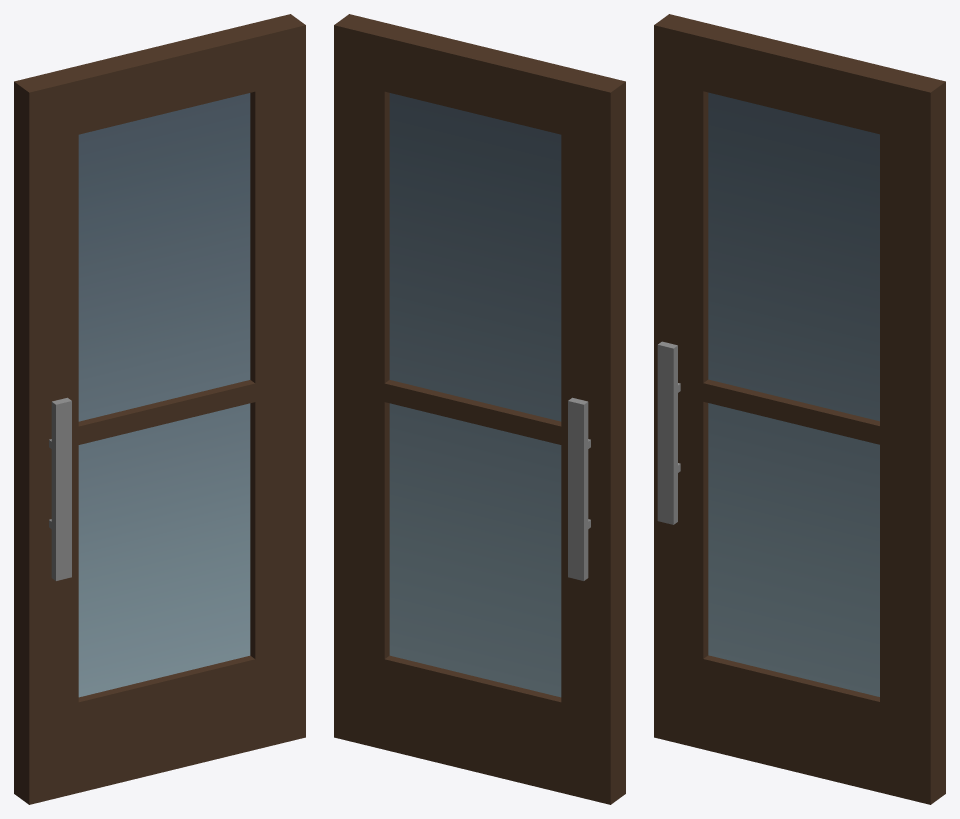
Rendered from SM_Buildings_School_01_Door_R.fbx.
The picture shows the model from 3 angles, left to right: view 1: azimuth 30°, elevation 25°; view 2: azimuth 150°, elevation 25°; view 3: azimuth 330°, elevation 25°; orthographic projection.
Parts seen in each view (by area): view 1: SM_Buildings_School_01_Door_R; view 2: SM_Buildings_School_01_Door_R; view 3: SM_Buildings_School_01_Door_R.
Part boxes in pixels (left/top/right/bottom): SM_Buildings_School_01_Door_R: left=14, top=14, right=305, bottom=804; SM_Buildings_School_01_Door_R: left=334, top=14, right=625, bottom=804; SM_Buildings_School_01_Door_R: left=654, top=14, right=945, bottom=804.
Bounding box in the file's own units: 1.25 × 3.08 × 0.3006.
